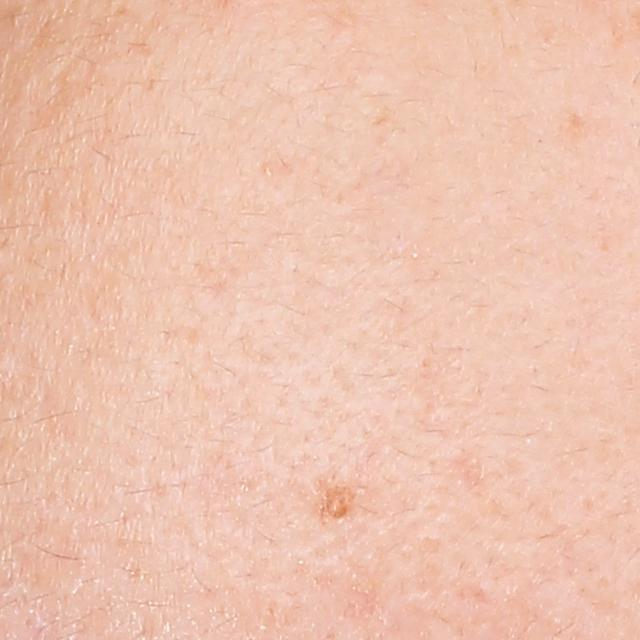comedo: (259, 164, 274, 180)
